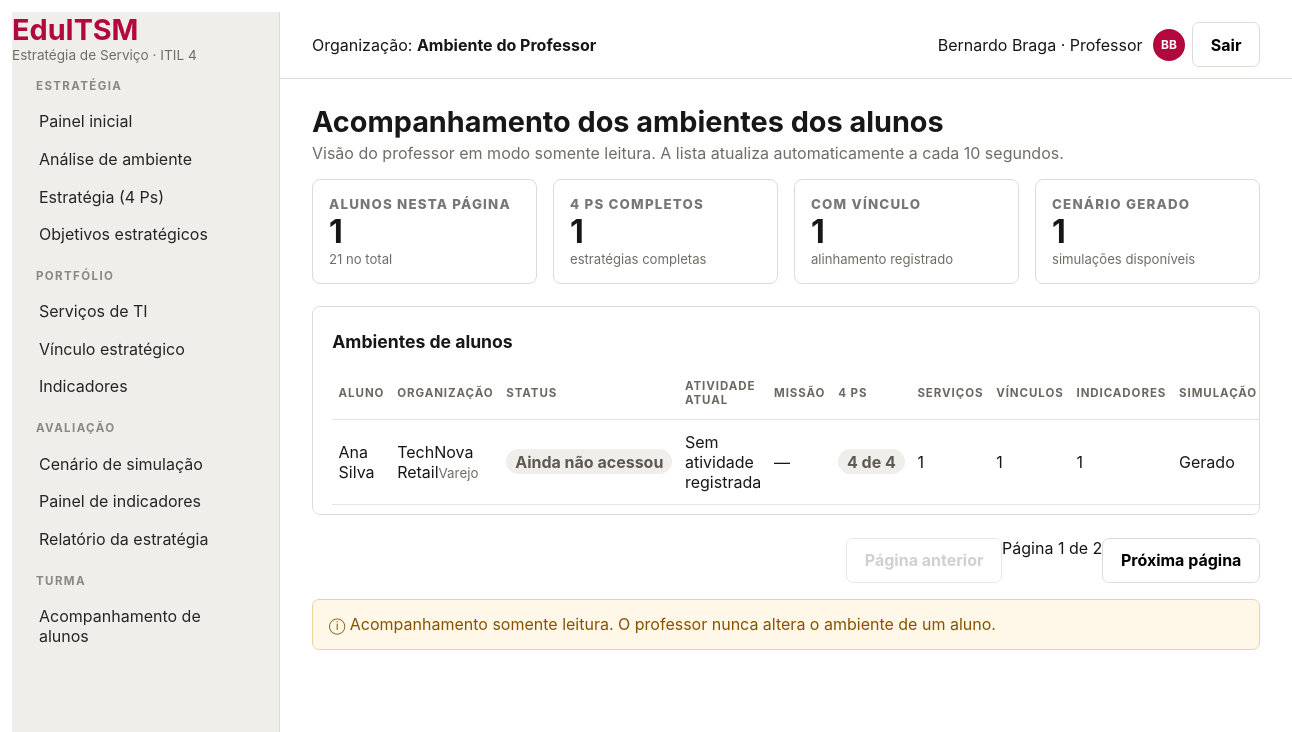
Test: T15 acompanhamento dos ambientes › consulta a próxima página com paginação explícita e permite retornar
The width and height of the screenshot is (1292, 732).
Expected: the text "Ana Silva" is shown, [332,419,391,504]
Expected: the button "Página anterior" is disabled, [846,538,1002,583]
Click the button "Próxima página".
click(1181, 560)  # box [1102,538,1260,583]
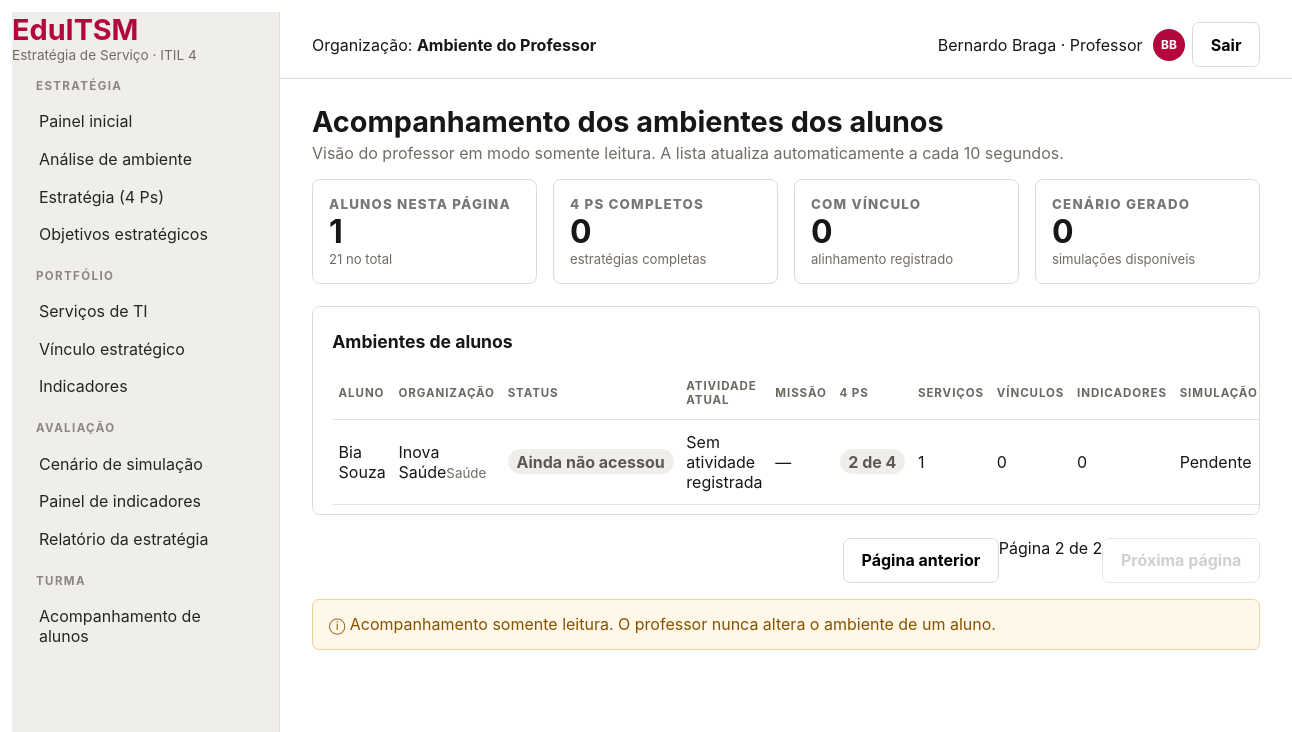
Expected: the text "Bia Souza" is shown, [332,419,392,504]
Expected: the text "Página 2 de 2" is shown, [999,538,1102,558]
Click the button "Página anterior".
click(921, 560)  # box [843,538,999,583]
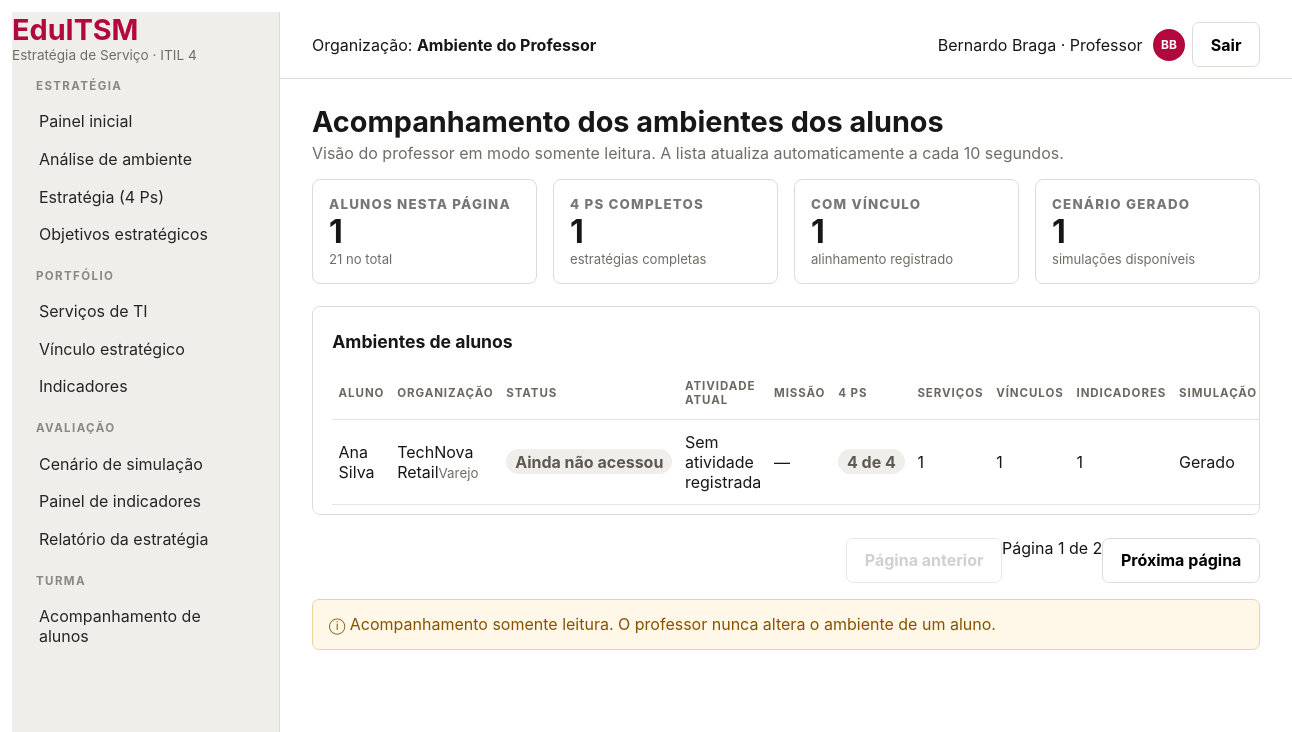
Expected: the text "Ana Silva" is shown, [332,419,391,504]
